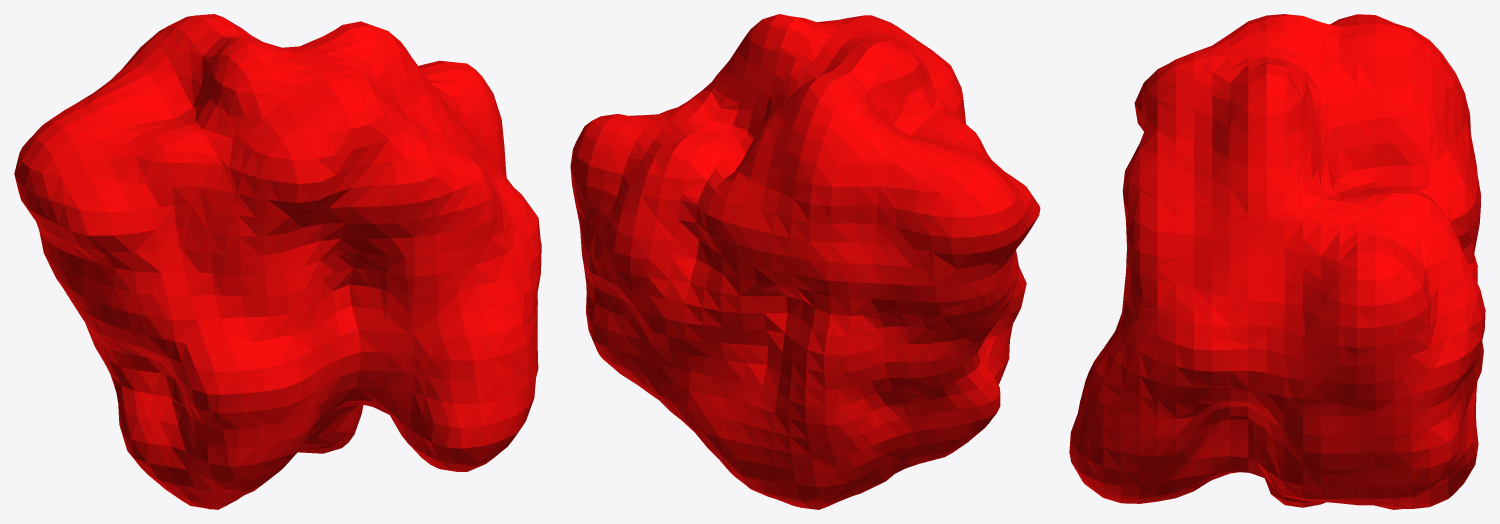
The model's file is entC_coarse.dae.
3 views of the same model, side by side, from view 1: azimuth 30°, elevation 25°; view 2: azimuth 150°, elevation 25°; view 3: azimuth 270°, elevation 25° (orthographic). The views are drawn at different scales.
Visible parts, largest first — view 1: entC; view 2: entC; view 3: entC.
Part boxes in pixels (left/top/right/bottom): entC: left=14, top=14, right=541, bottom=509; entC: left=570, top=14, right=1040, bottom=509; entC: left=1069, top=14, right=1485, bottom=509.
Size of the model in its own units: 63.01 by 59.27 by 46.26.
